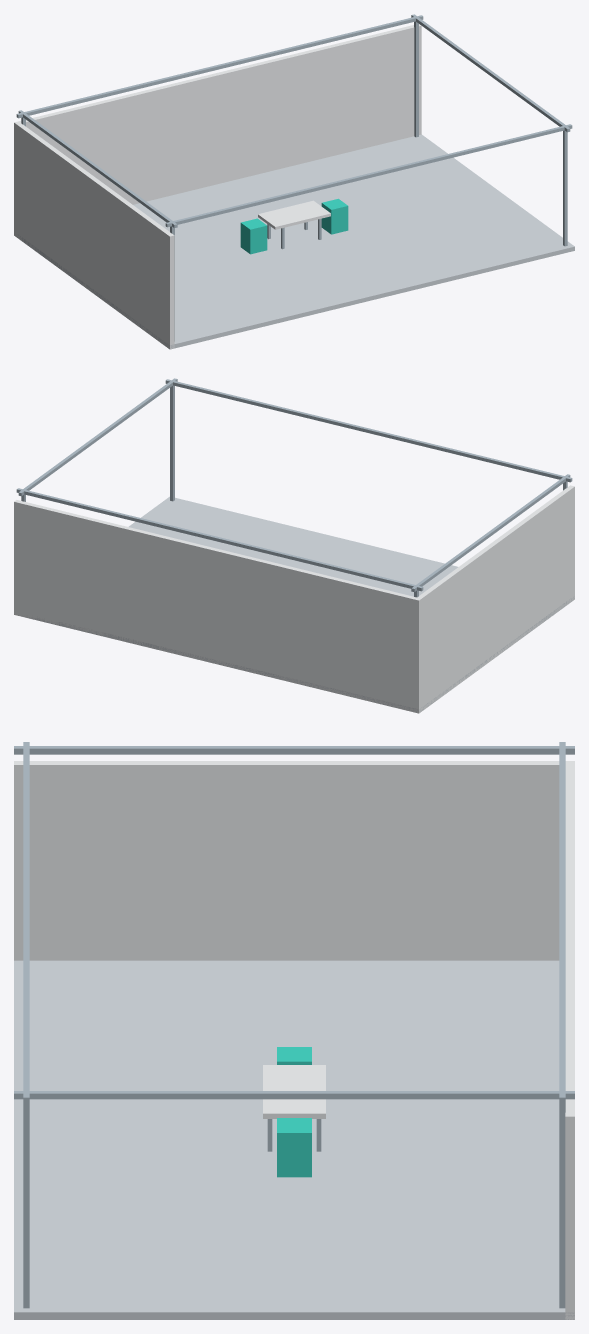
3 renders of one model, top to bottom at view 1: azimuth 30°, elevation 25°; view 2: azimuth 150°, elevation 25°; view 3: azimuth 270°, elevation 25°, orthographic. The views are drawn at different scales.
Parts seen in each view (by area): view 1: Exhibition Booth Concept; view 2: Exhibition Booth Concept; view 3: Exhibition Booth Concept.
Boxes of the visible parts, left/top/right/bottom form: Exhibition Booth Concept: left=14, top=14, right=574, bottom=349; Exhibition Booth Concept: left=14, top=378, right=574, bottom=713; Exhibition Booth Concept: left=14, top=742, right=574, bottom=1319.
Bounding box in the file's own units: 12 × 3.49 × 8.
